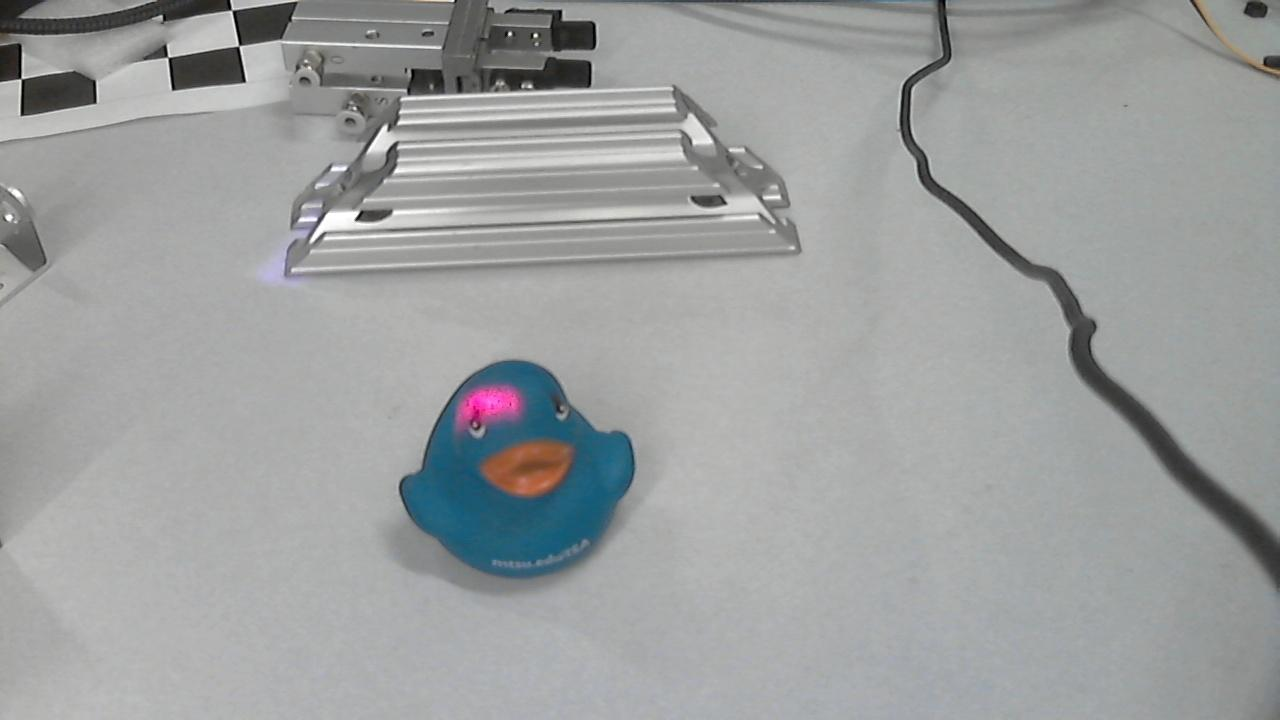Object rubber duck - Material rubber -Color blue - Pdfname BWuUnwTLudUE: (435, 393, 567, 455)
